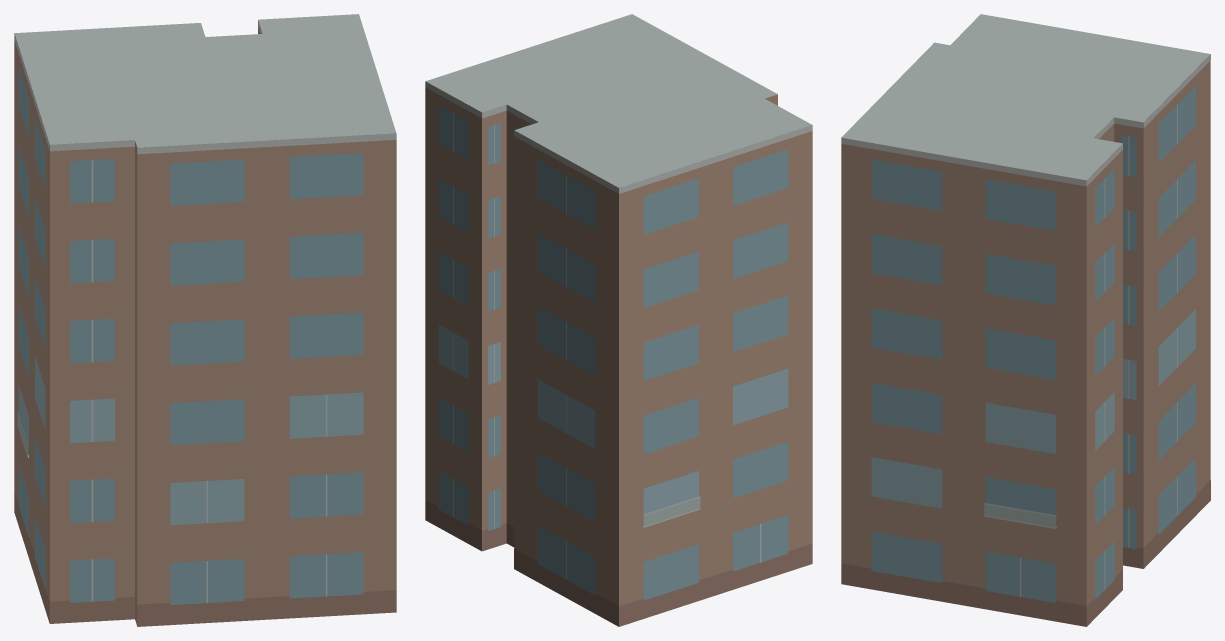
File: survey-upis-32930555.glb
3 renders of one model, left to right at view 1: azimuth 30°, elevation 25°; view 2: azimuth 150°, elevation 25°; view 3: azimuth 270°, elevation 25°, orthographic. The views are drawn at different scales.
Visible parts, largest first — view 1: survey-upis-32930555.tmp; view 2: survey-upis-32930555.tmp; view 3: survey-upis-32930555.tmp.
Part boxes in pixels (box(x1,y1,x2,y2)): survey-upis-32930555.tmp: box(14, 14, 396, 626); survey-upis-32930555.tmp: box(425, 14, 812, 626); survey-upis-32930555.tmp: box(841, 14, 1210, 626).
Bounding box in the file's own units: 14.32 × 17.9 × 13.43.
